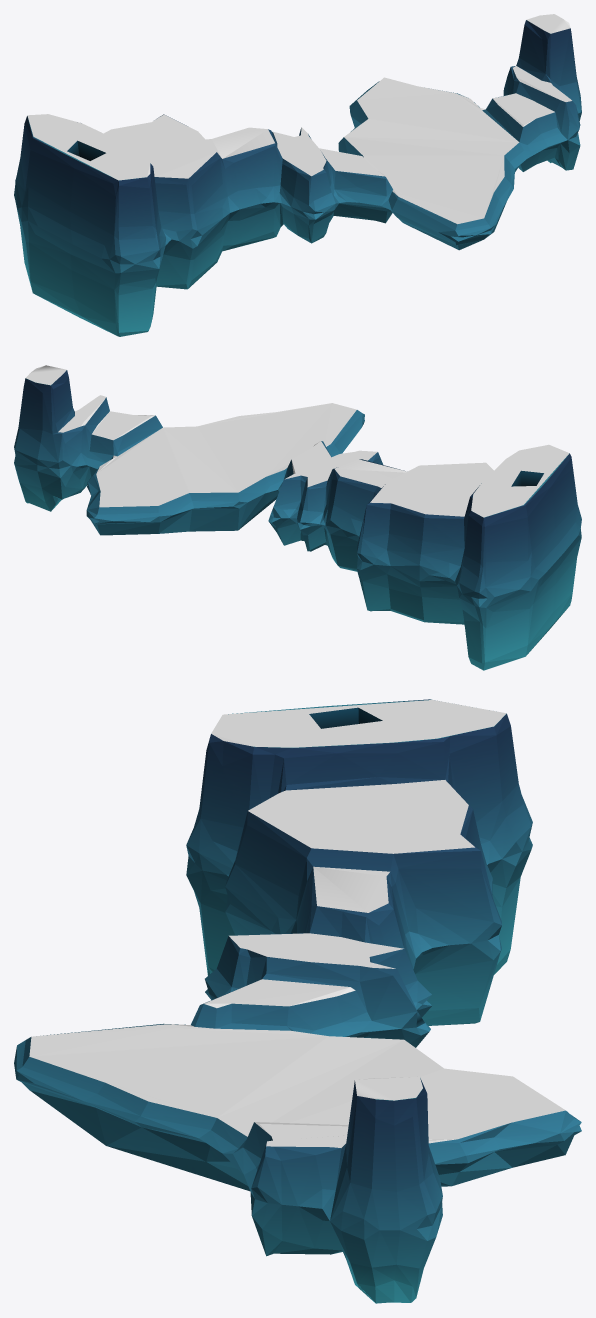
File: MOD_Level1.fbx
3 renders of one model, top to bottom at view 1: azimuth 30°, elevation 25°; view 2: azimuth 150°, elevation 25°; view 3: azimuth 270°, elevation 25°, orthographic. The views are drawn at different scales.
Parts seen in each view (by area): view 1: MOD_Level1, MOD_Level1_Floor; view 2: MOD_Level1, MOD_Level1_Floor; view 3: MOD_Level1, MOD_Level1_Floor.
Boxes of the visible parts, bbox=[...] form: MOD_Level1: bbox=[14, 20, 581, 336]; MOD_Level1_Floor: bbox=[27, 14, 571, 224]; MOD_Level1: bbox=[14, 370, 581, 670]; MOD_Level1_Floor: bbox=[26, 365, 569, 517]; MOD_Level1: bbox=[14, 699, 581, 1303]; MOD_Level1_Floor: bbox=[29, 700, 565, 1147].
Size of the model in its own units: 7.01 by 1.96 by 4.05.
3 materials, 2 textured.
